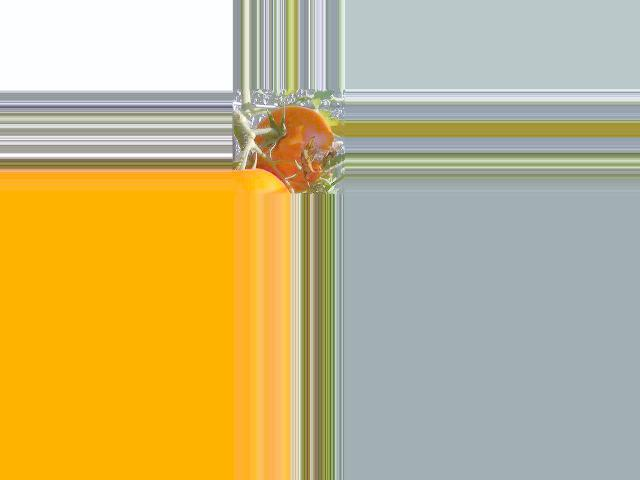tomato: (254, 105, 335, 192)
